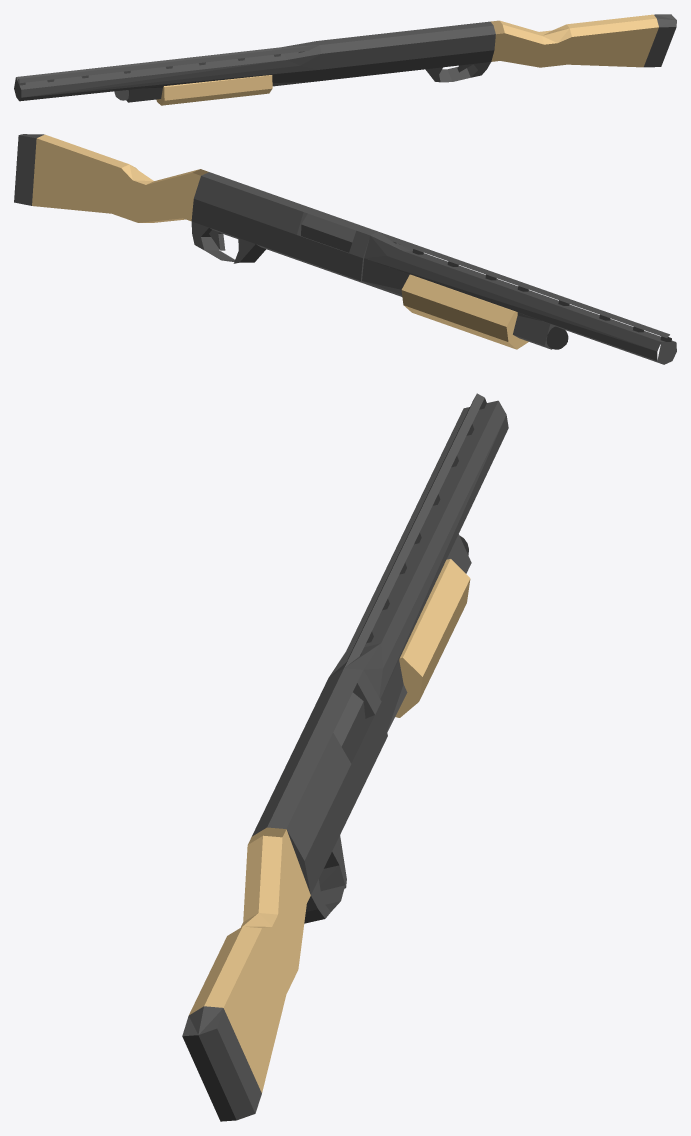
Rendered from scene_Vs2DeSOCxr.glb.
The picture shows the model from 3 angles, top to bottom: view 1: azimuth 30°, elevation 25°; view 2: azimuth 150°, elevation 25°; view 3: azimuth 270°, elevation 25°; orthographic projection. The views are drawn at different scales.
Visible parts, largest first — view 1: group1191862861; view 2: group1191862861; view 3: group1191862861.
Part boxes in pixels (box(x1,y1,x2,y2)): group1191862861: box(14, 14, 676, 105); group1191862861: box(14, 134, 676, 364); group1191862861: box(182, 393, 508, 1121).
Bounding box in the file's own units: 0.184 × 0.0245 × 0.0441.
